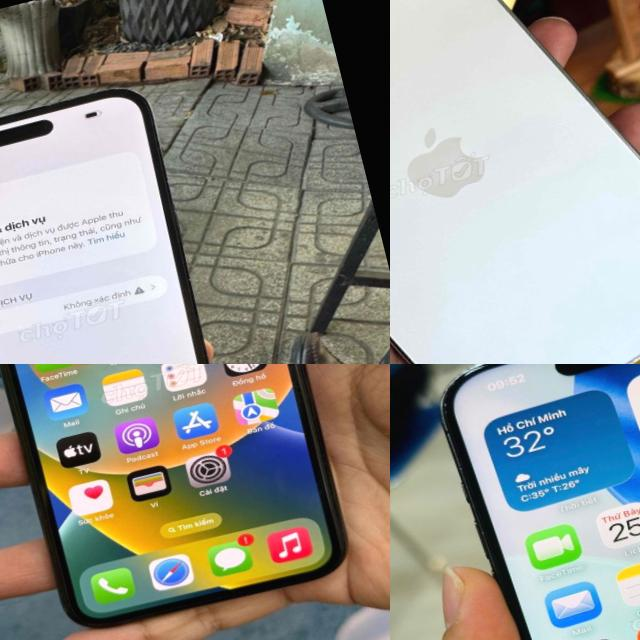gen_11: (0, 364, 374, 640)
gen_14: (390, 0, 640, 364), (0, 68, 254, 364)
gen_15: (390, 364, 640, 640)
